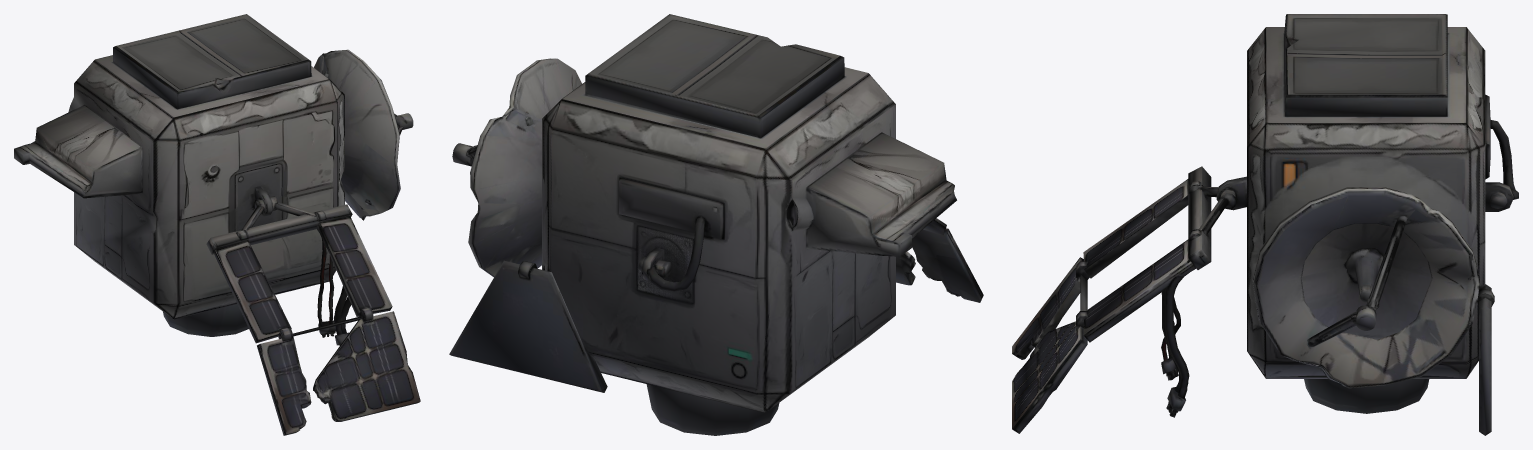
Rendered from original_glb.glb.
The picture shows the model from 3 angles, left to right: view 1: azimuth 30°, elevation 25°; view 2: azimuth 150°, elevation 25°; view 3: azimuth 270°, elevation 25°; orthographic projection. The views are drawn at different scales.
Visible parts, largest first — view 1: Dead Comsat; view 2: Dead Comsat; view 3: Dead Comsat.
Boxes of the visible parts, x1,y1,x2,y2 form: Dead Comsat: (14,14,420,435); Dead Comsat: (449,14,983,435); Dead Comsat: (1012,14,1518,435).
Size of the model in its own units: 0.998 by 0.6934 by 0.9434.
Materials: 1 (1 with a texture image).
